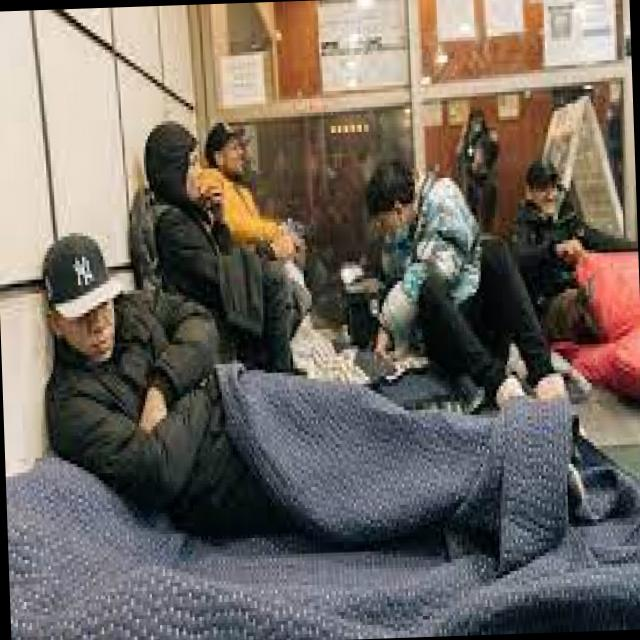Jacket: (25, 297, 262, 534), (123, 188, 302, 394), (358, 215, 492, 373)
